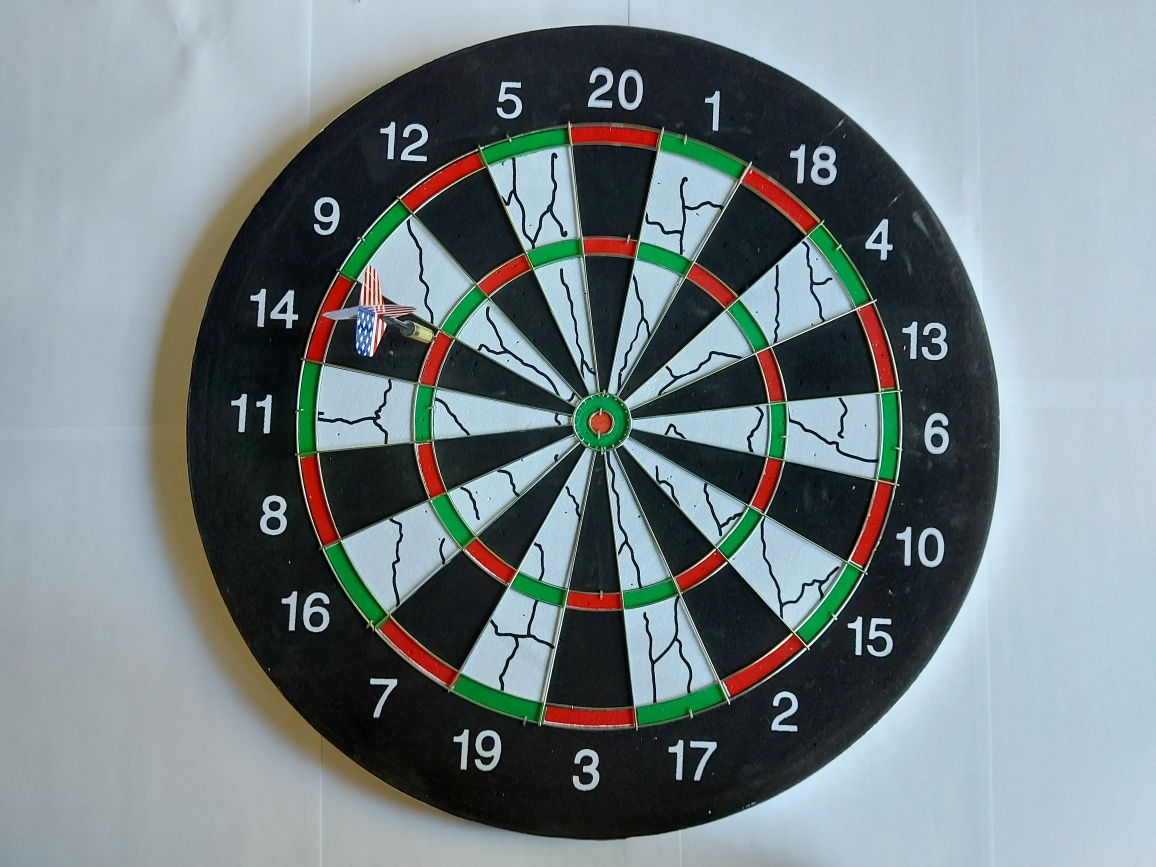Dart: (312, 262, 457, 372)
